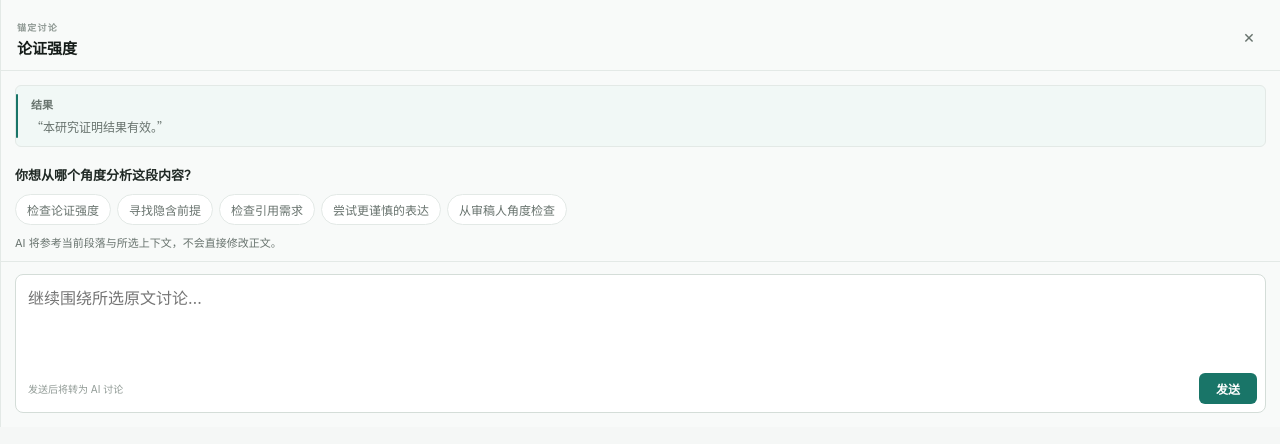
Scenario: discussion panel contexts › fills the composer from an empty-state task chip
Expected: the text box named "讨论输入" is empty, [16,275,1265,367]
Click the button "检查论证强度".
click(63, 210)  # box [15,194,111,225]
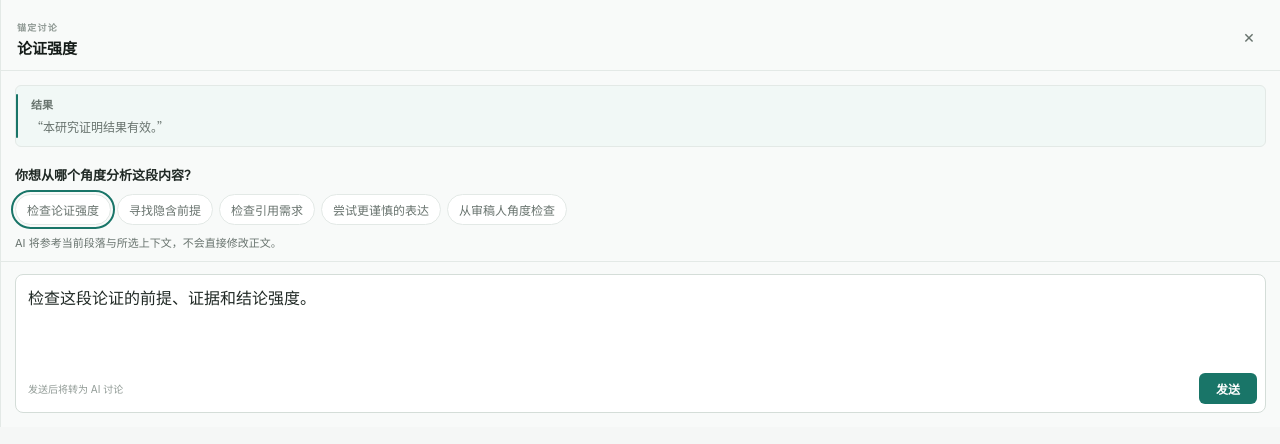
Expected: the text box named "讨论输入" holds "检查这段论证的前提、证据和结论强度。", [16,275,1265,367]
